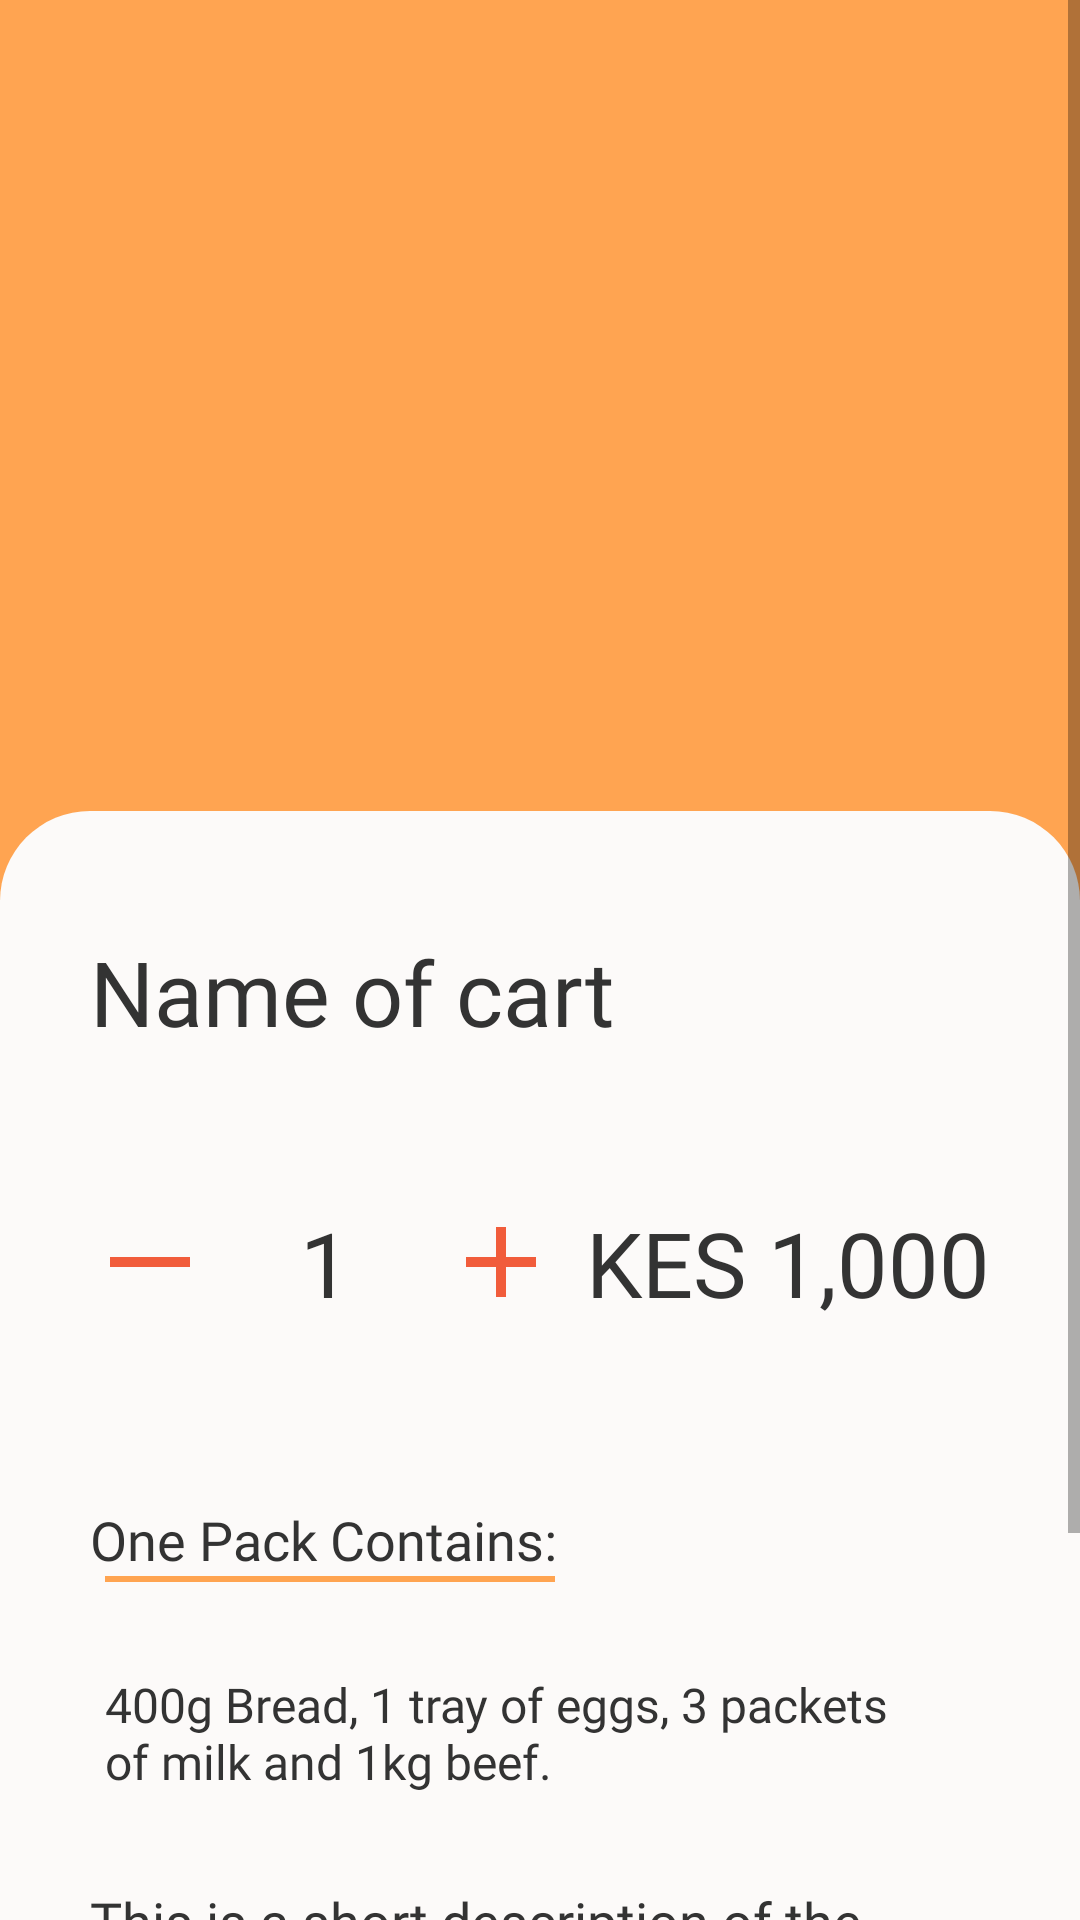

Screen size 1080px x 1920px. Icon name, then its box in pixels as [x1,y1,x2,y2]:
Increase item quantity: [466,1227,536,1297]
